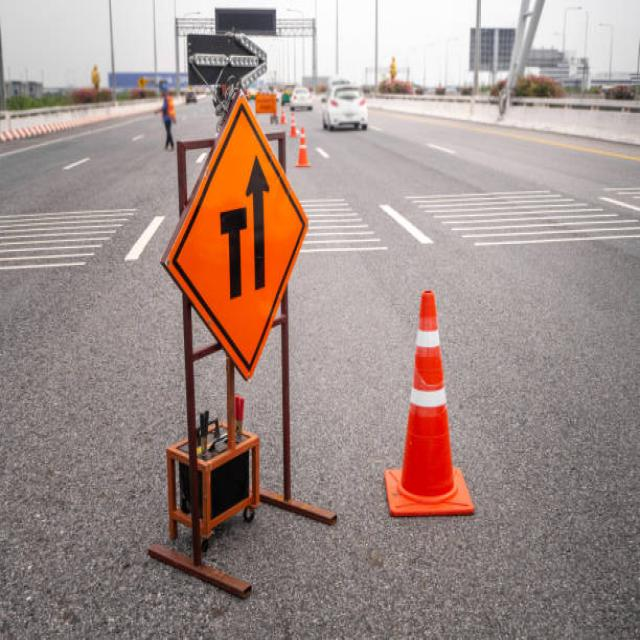Traffic Cone: (372, 265, 493, 549)
